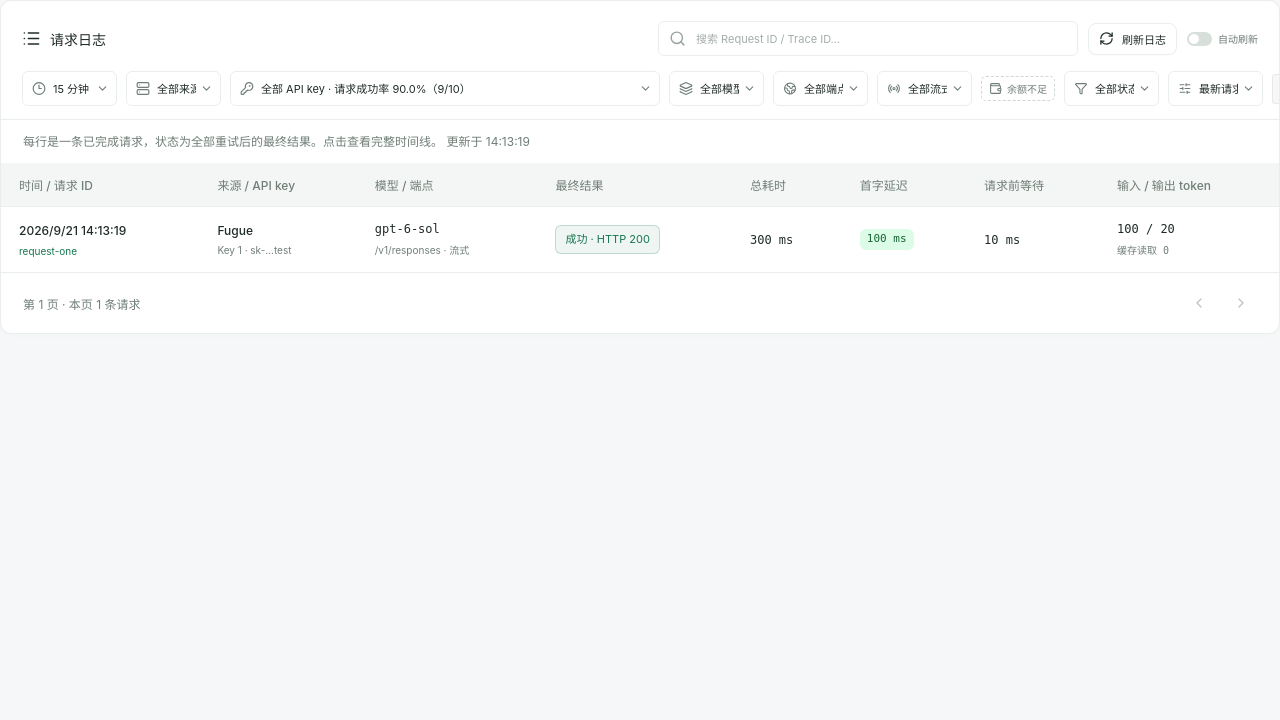
Scenario: opens the existing timeline in a scoped modal and returns to the same log page
Click the button "request-one".
click(48, 251)  # box [19,245,77,257]
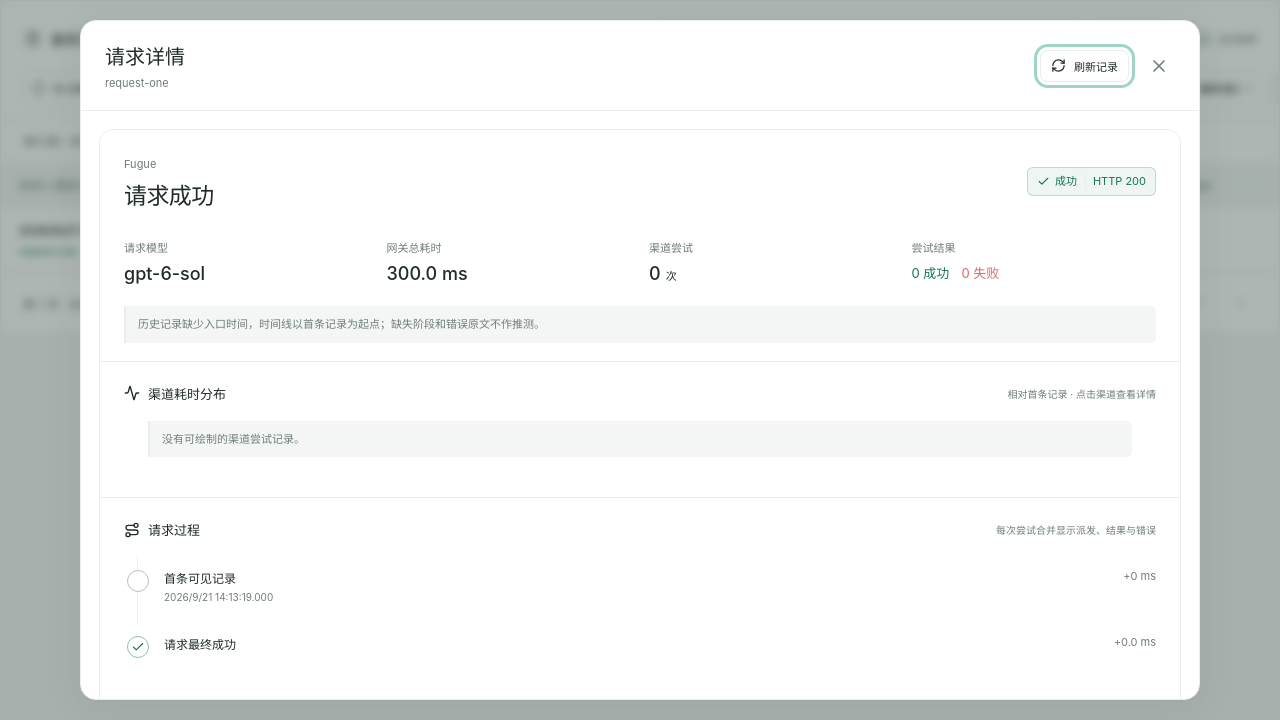
Check: the heading "请求成功" is shown, box [124,177,214,211]
Click the button named "关闭请求详情".
click(1159, 66)  # box [1143,50,1175,82]
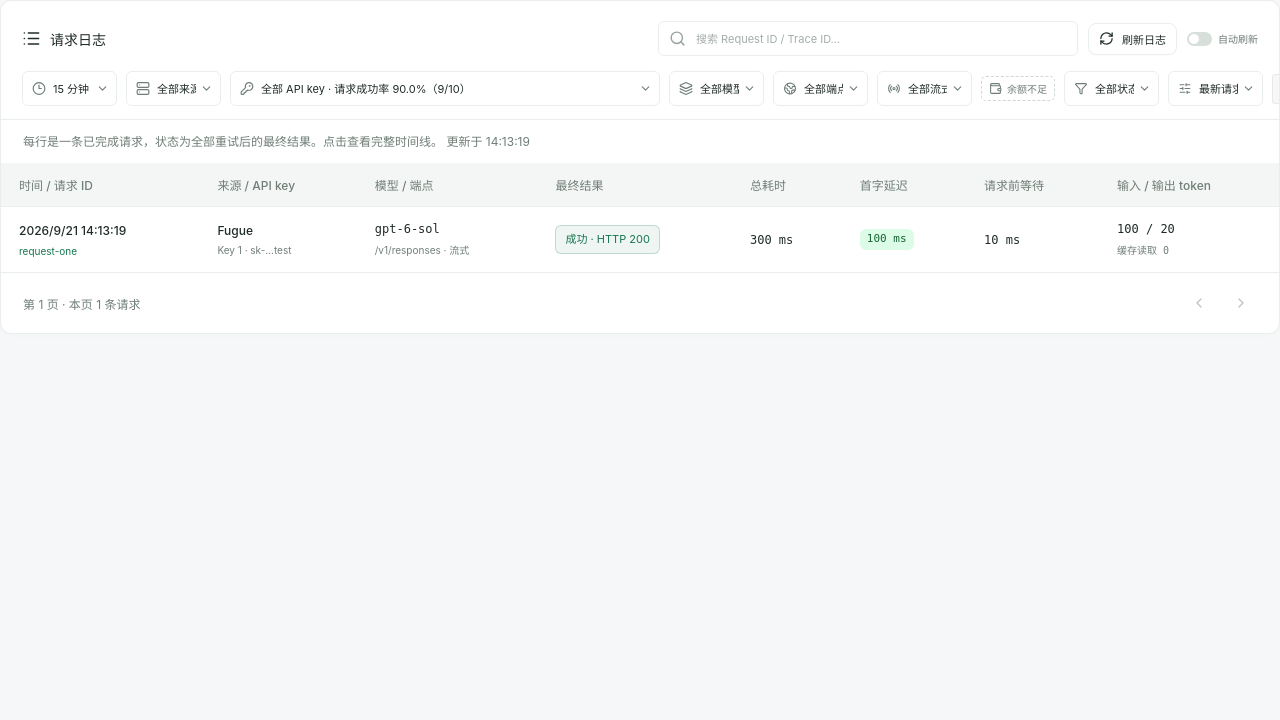
Check: the button "request-one" is shown, box [19,245,77,257]
Check: the dialog is gone
